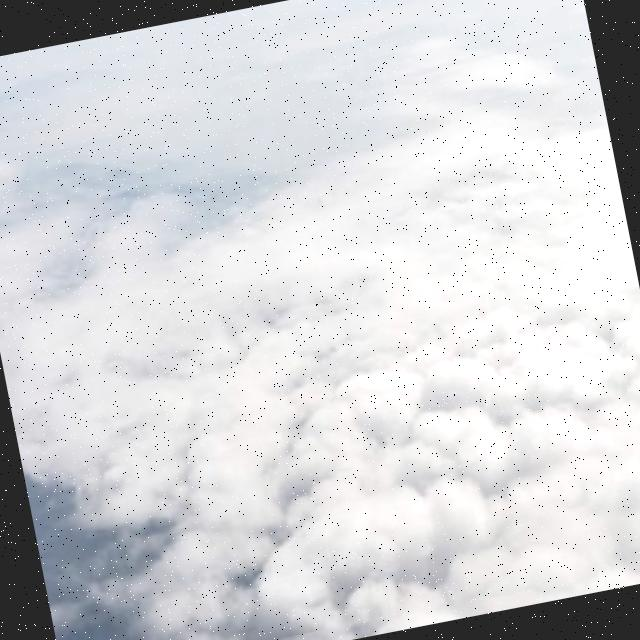Cs: (1, 68, 640, 640)
